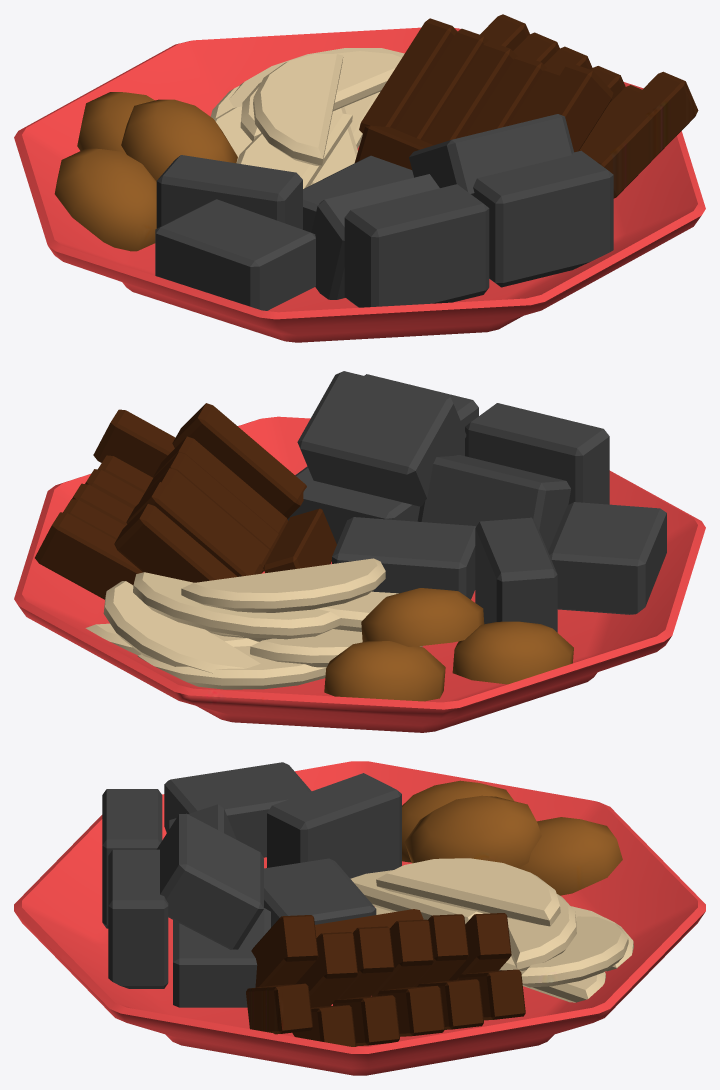
Rendered from 21-Object-Louwei.FBX.
The picture shows the model from 3 angles, top to bottom: view 1: azimuth 30°, elevation 25°; view 2: azimuth 150°, elevation 25°; view 3: azimuth 270°, elevation 25°; orthographic projection. The views are drawn at different scales.
Parts seen in each view (by area): view 1: Box005; view 2: Box005; view 3: Box005.
Part boxes in pixels (x1=…): Box005: x1=14, y1=14, x2=705, y2=342; Box005: x1=14, y1=371, x2=705, y2=732; Box005: x1=14, y1=761, x2=705, y2=1075.
Bounding box in the file's own units: 31.81 × 7.92 × 31.81.
